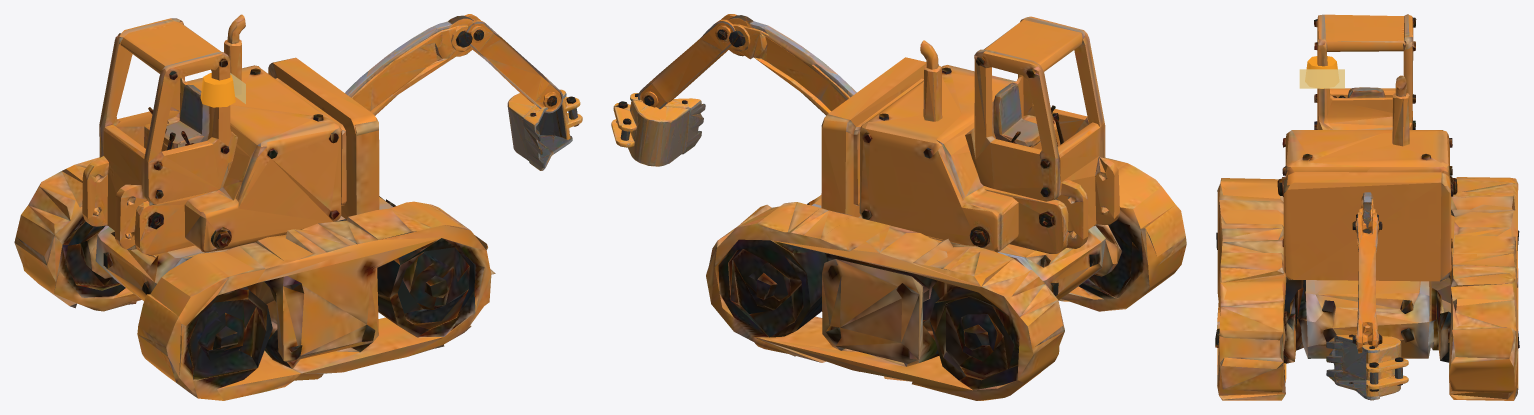
Rendered from excavator_v1.glb.
3 renders of one model, left to right at view 1: azimuth 30°, elevation 25°; view 2: azimuth 150°, elevation 25°; view 3: azimuth 270°, elevation 25°, orthographic. The views are drawn at different scales.
Visible parts, largest first — view 1: mesh_node (×5), beacon; view 2: mesh_node (×5); view 3: mesh_node (×5), beacon.
Boxes of the visible parts, x1,y1,x2,y2 form: mesh_node (×5): [14, 14, 582, 400]; beacon: [200, 73, 245, 107]; mesh_node (×5): [611, 14, 1186, 400]; mesh_node (×5): [1215, 14, 1519, 400]; beacon: [1299, 56, 1344, 88].
Size of the model in its own units: 4.07 by 2.35 by 2.29.
7 materials, 5 textured.
